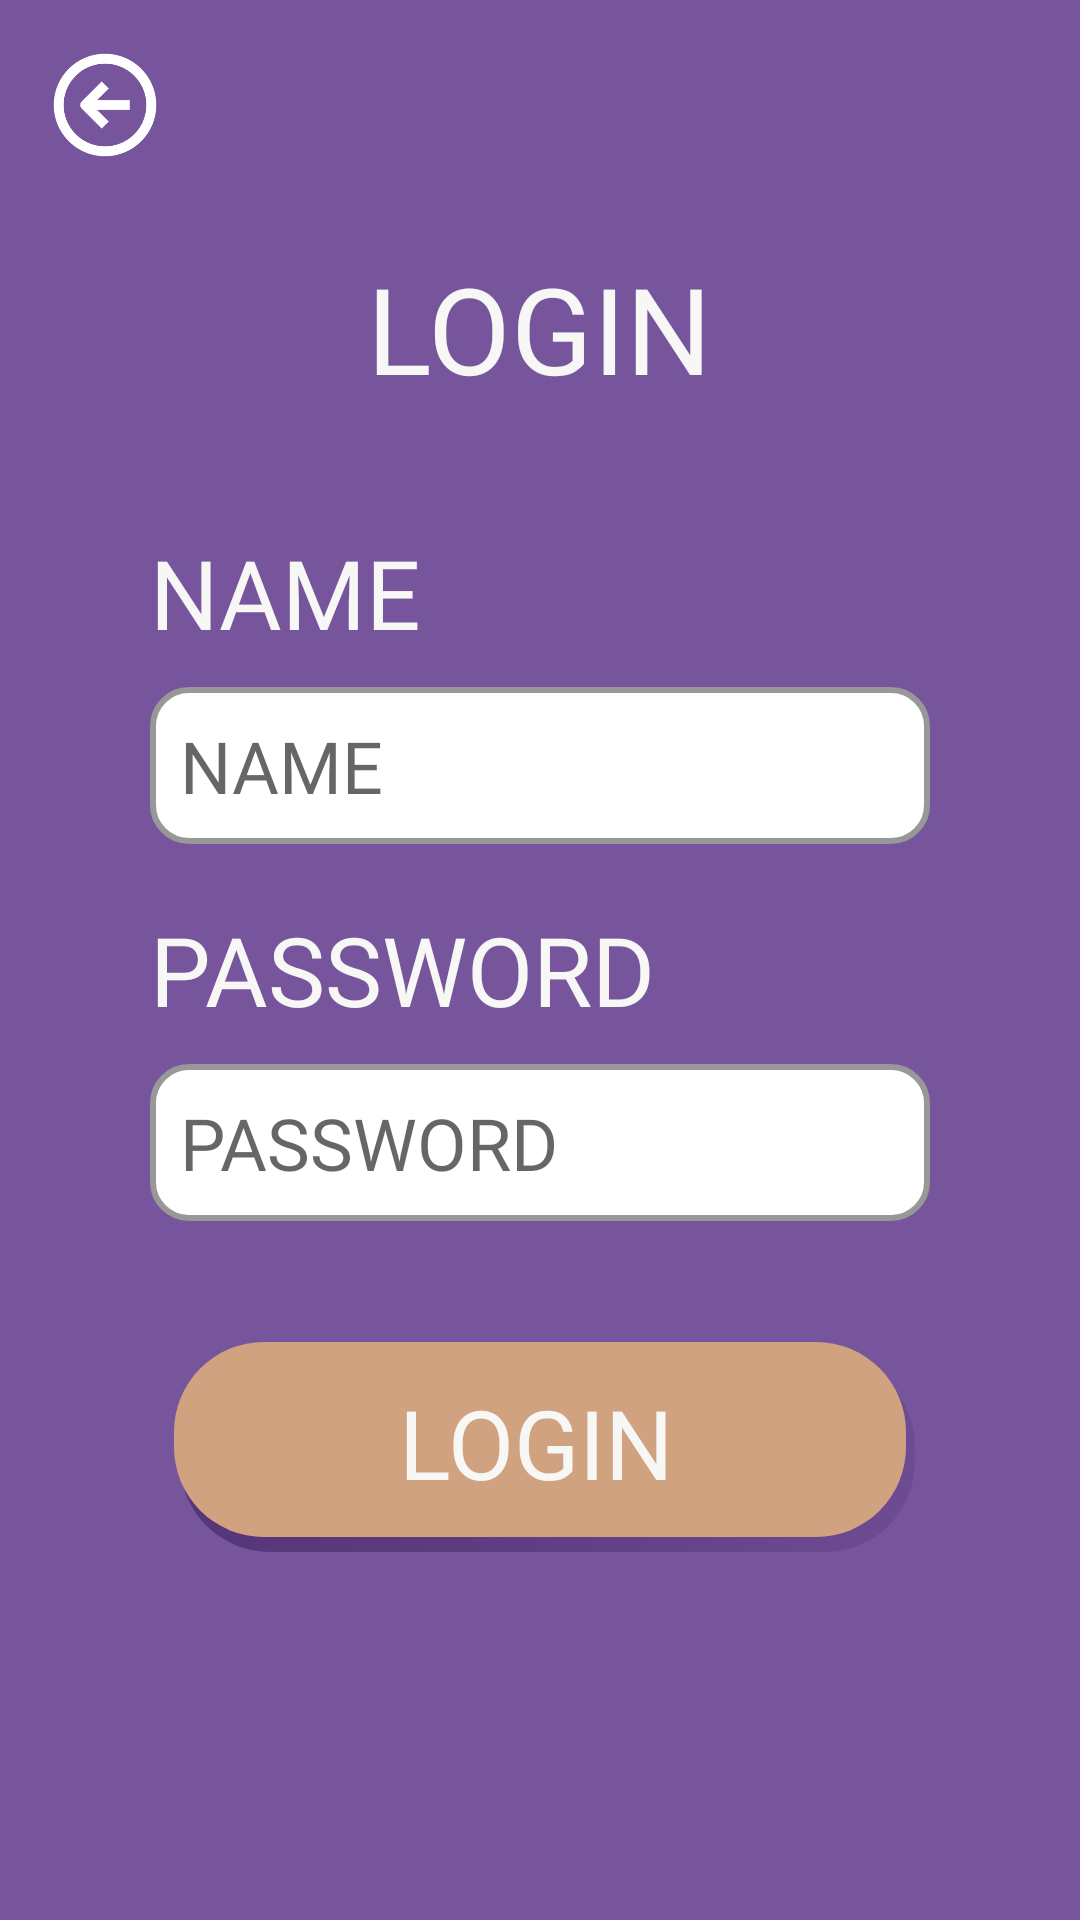

Point at icon controls on the screen. Image size 1080*1920, points as point (x, y).
backward: point (105, 105)
